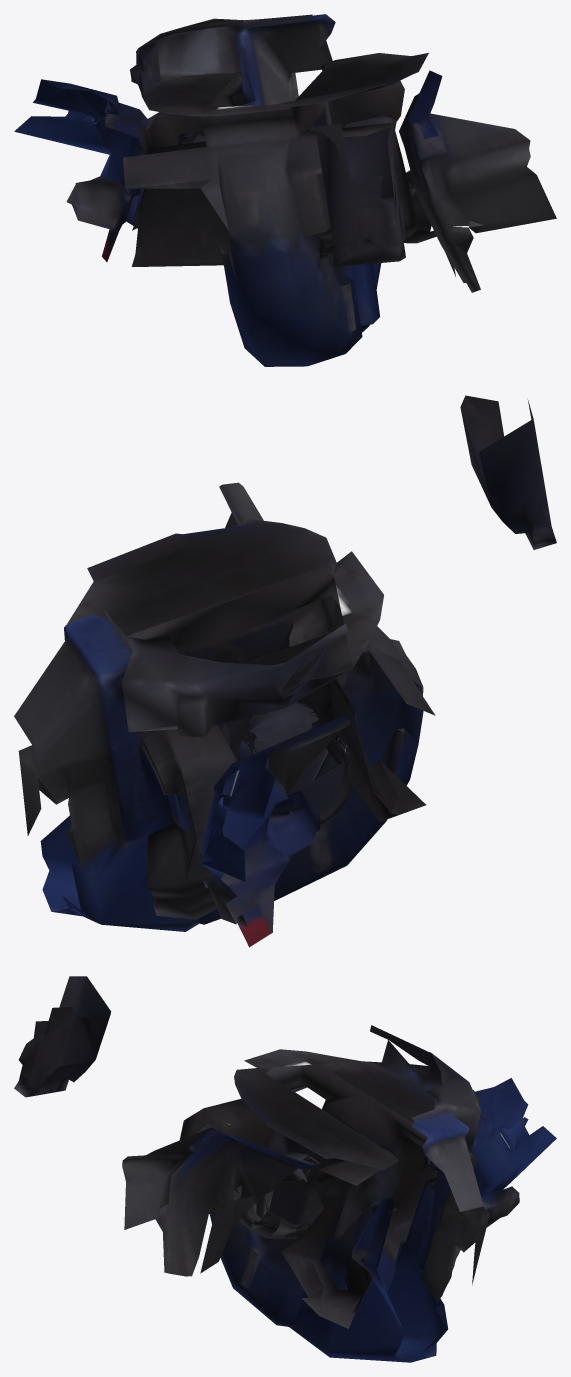
Rendered from blue_arm_left_lower.glb.
3 views of the same model, one above another, from view 1: azimuth 30°, elevation 25°; view 2: azimuth 150°, elevation 25°; view 3: azimuth 270°, elevation 25° (orthographic). The views are drawn at different scales.
Parts seen in each view (by area): view 1: blue_arm_left_lower; view 2: blue_arm_left_lower; view 3: blue_arm_left_lower.
Boxes of the visible parts, x1,y1,x2,y2 form: blue_arm_left_lower: (14,14,556,366); blue_arm_left_lower: (14,395,556,947); blue_arm_left_lower: (14,976,556,1362).
Size of the model in its own units: 1.1 by 1.25 by 1.93.
1 material, 1 textured.
